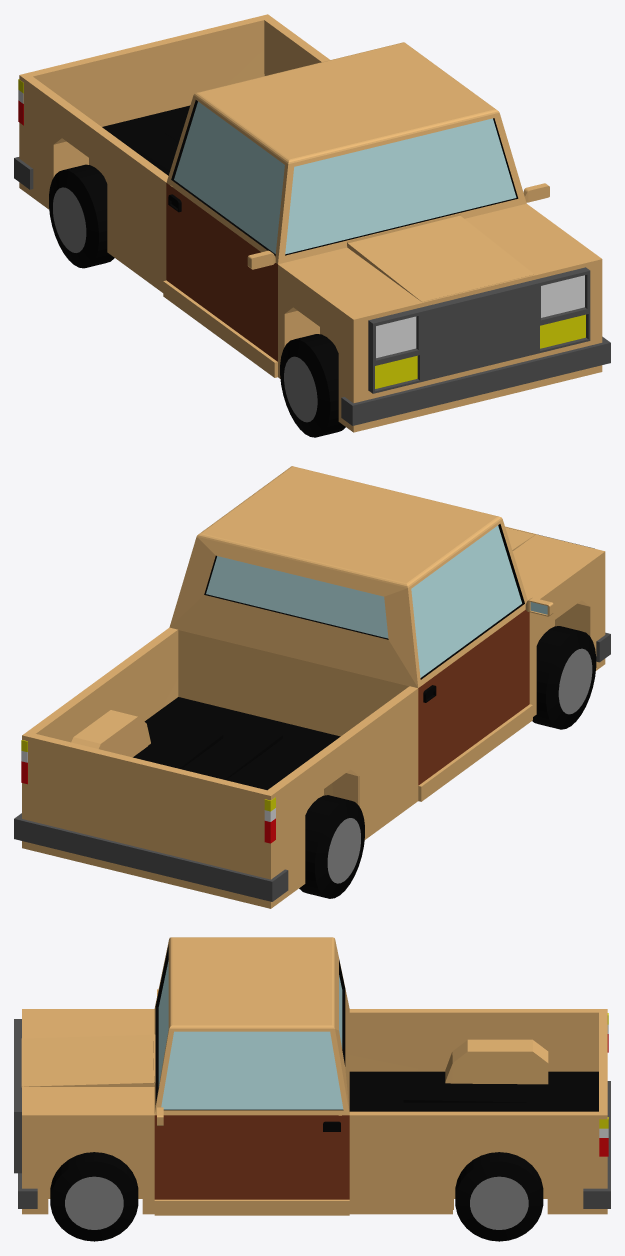
The model's file is Chloes_Truck.fbx.
3 renders of one model, top to bottom at view 1: azimuth 30°, elevation 25°; view 2: azimuth 150°, elevation 25°; view 3: azimuth 270°, elevation 25°, orthographic. The views are drawn at different scales.
Parts seen in each view (by area): view 1: Body, RearRightWheel, FrontRightWheel, LeftIndicators, RightIndicators; view 2: Body, FrontRightWheel, RearRightWheel; view 3: Body, FrontLeftWheel, RearLeftWheel.
Part boxes in pixels (x1,y1,x2,y2): Body: (14, 14, 610, 432); RearRightWheel: (49, 164, 114, 268); FrontRightWheel: (280, 334, 345, 437); LeftIndicators: (540, 314, 585, 348); RightIndicators: (18, 79, 417, 388); Body: (14, 466, 610, 908); FrontRightWheel: (532, 626, 596, 729); RearRightWheel: (299, 795, 364, 898); Body: (14, 937, 610, 1215); FrontLeftWheel: (50, 1152, 138, 1241); RearLeftWheel: (455, 1152, 543, 1241).
Size of the model in its own units: 3.28 by 2.47 by 6.49.
